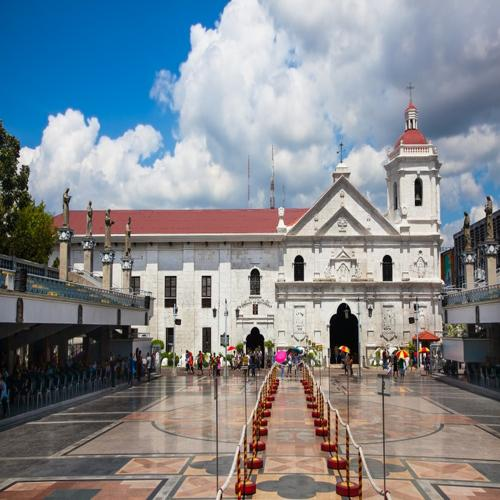Sto. Nino Basilica Church: (270, 79, 455, 387)
